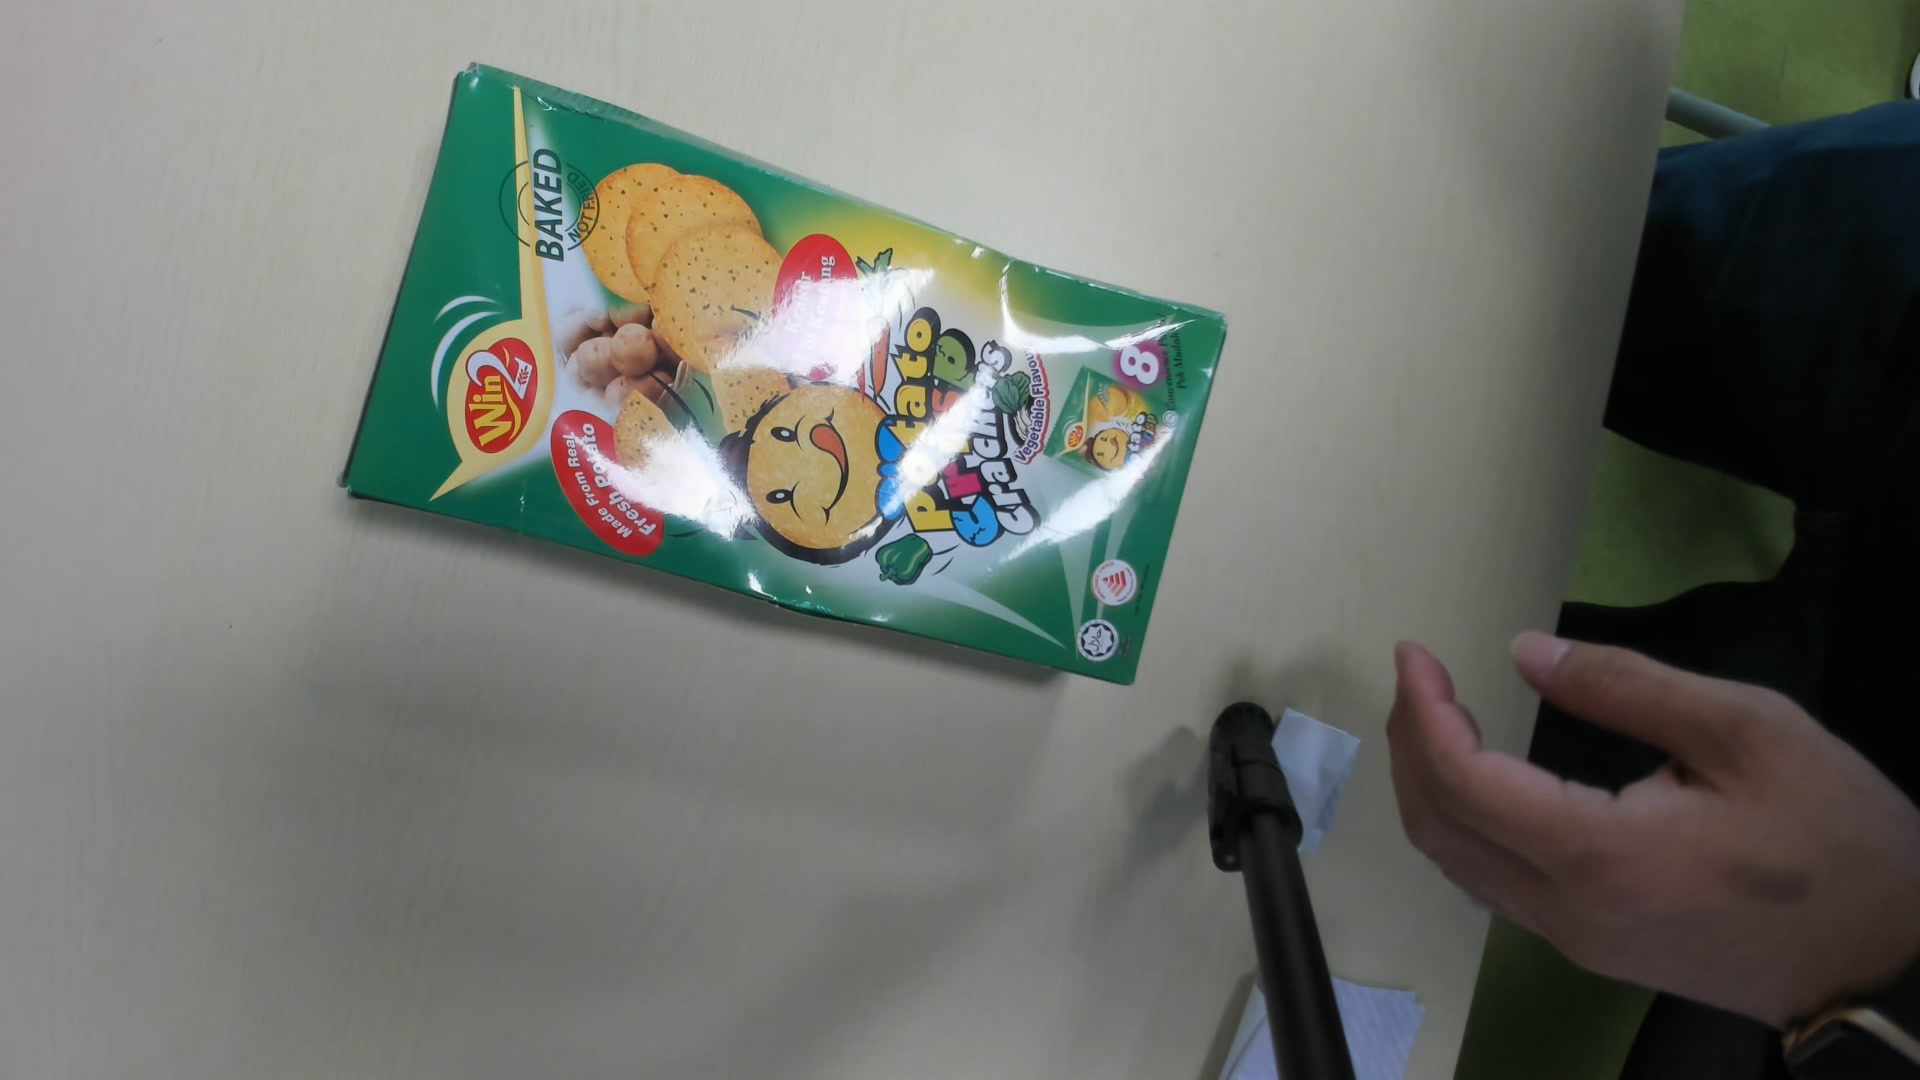PotatoChipsKeropok_100-200g_Halal_Healthy: (338, 61, 1224, 687)
